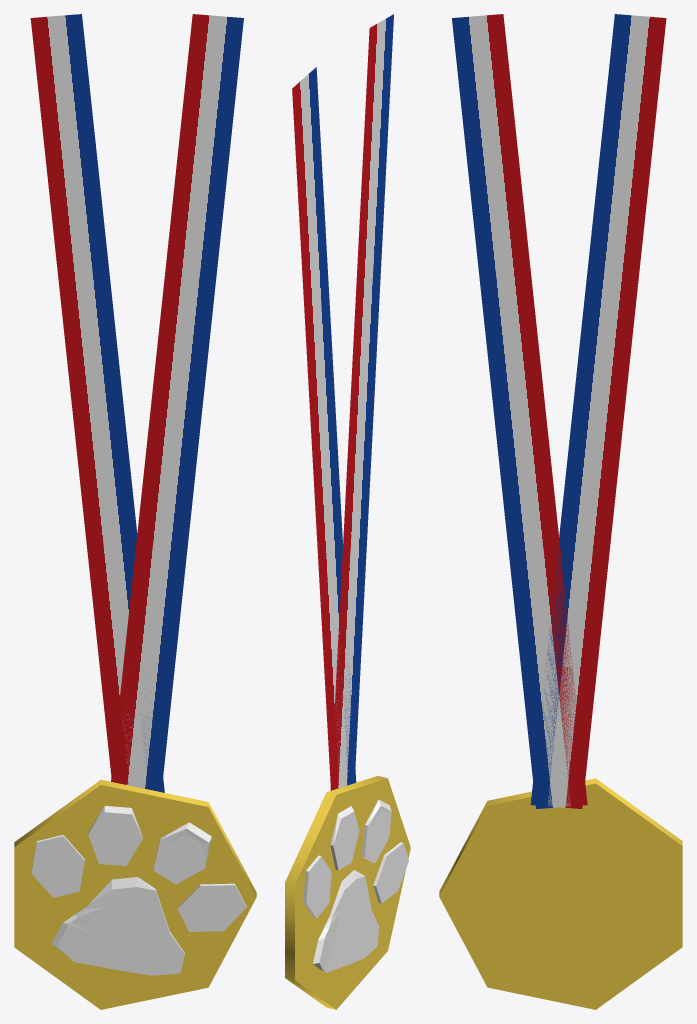
The model's file is medalYellow.FBX.
The picture shows the model from 3 angles, left to right: view 1: azimuth 90°, elevation 25°; view 2: azimuth 150°, elevation 25°; view 3: azimuth 270°, elevation 25°; orthographic projection. The views are drawn at different scales.
Parts seen in each view (by area): view 1: Box240; view 2: Box240; view 3: Box240.
Part boxes in pixels (x1,y1,x2,y2): Box240: (14,14,256,1009); Box240: (285,14,410,1009); Box240: (439,14,682,1009).
Size of the model in its own units: 0.5628 by 35.17 by 7.79.
